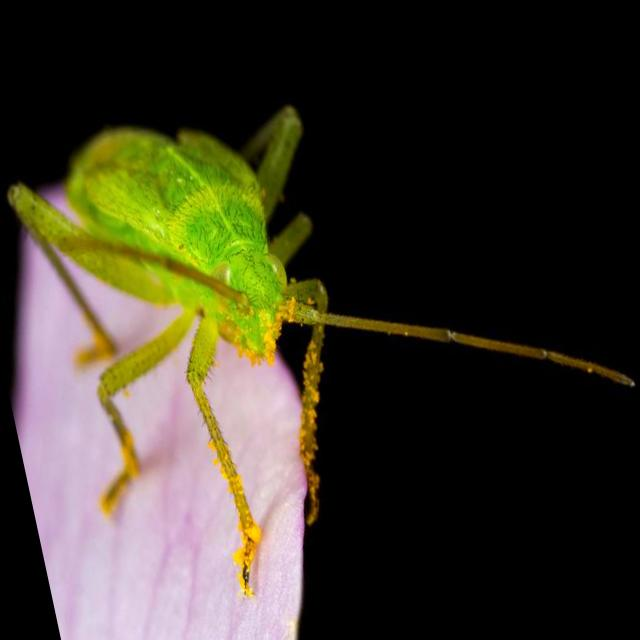Aphids: (0, 2, 639, 620)
